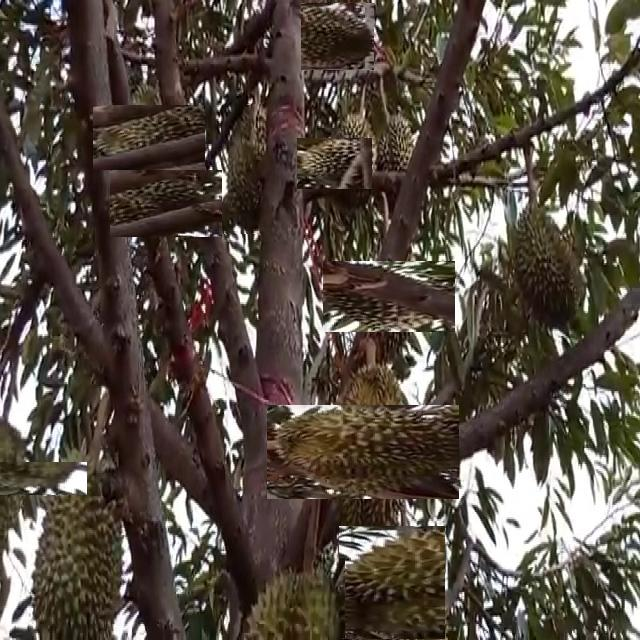durian: (28, 432, 129, 638), (292, 380, 435, 524), (336, 528, 448, 640), (506, 190, 589, 332), (338, 245, 439, 348), (232, 558, 345, 638), (222, 104, 290, 234), (121, 158, 212, 248), (104, 93, 194, 181), (312, 123, 392, 204), (372, 105, 423, 226), (0, 435, 60, 522), (302, 1, 373, 72)
